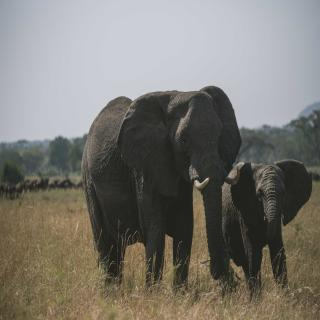Elephant: (75, 80, 243, 289), (218, 156, 320, 303)
